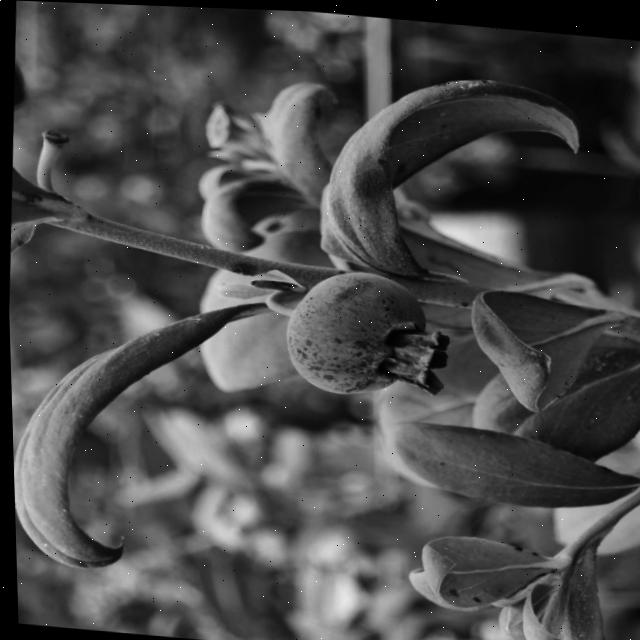RipeBlueBerry: (274, 258, 444, 401)
